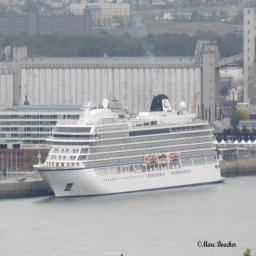cruises: (33, 91, 227, 201)
